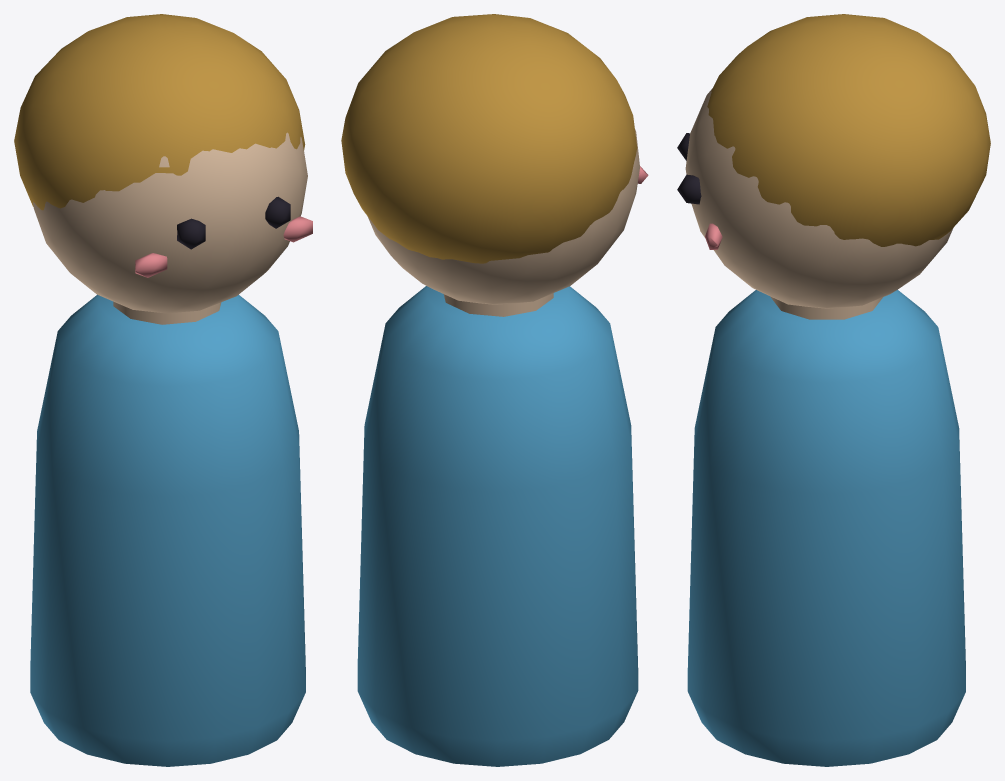
The model's file is person_camper_b.fbx.
3 renders of one model, left to right at view 1: azimuth 30°, elevation 25°; view 2: azimuth 150°, elevation 25°; view 3: azimuth 270°, elevation 25°, orthographic.
Parts seen in each view (by area): view 1: Body, Head; view 2: Body, Head; view 3: Body, Head.
Part boxes in pixels (x1=…): Body: x1=30, y1=294, x2=305, y2=766; Head: x1=14, y1=14, x2=312, y2=313; Body: x1=357, y1=286, x2=638, y2=766; Head: x1=341, y1=14, x2=648, y2=304; Body: x1=687, y1=289, x2=965, y2=766; Head: x1=677, y1=14, x2=990, y2=308.
Size of the model in its own units: 0.208 by 0.5394 by 0.222.
